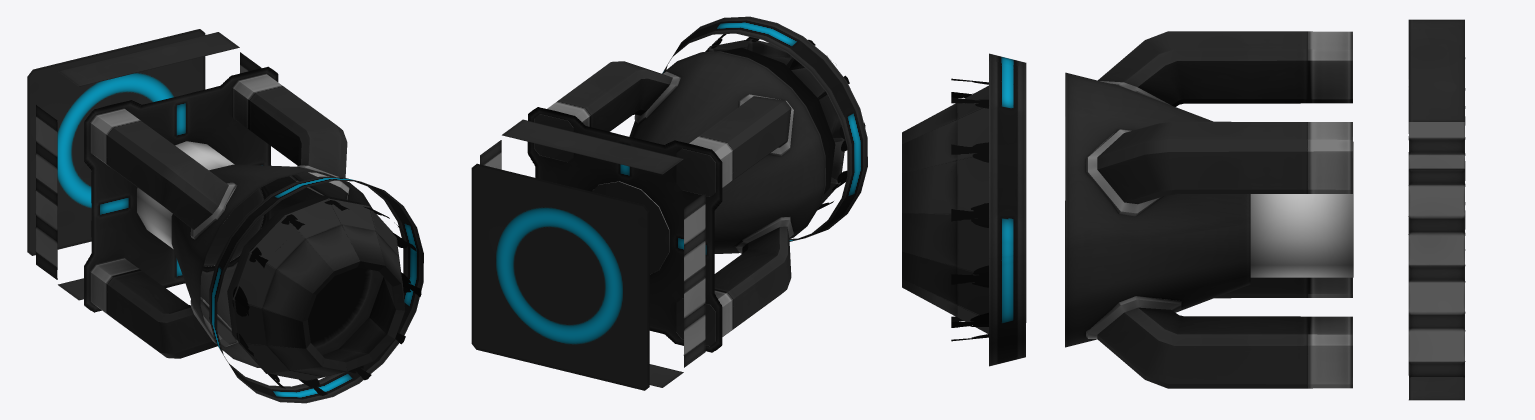
The model's file is obj_interactive_thruster_04_pose0.fbx.
The picture shows the model from 3 angles, left to right: view 1: azimuth 30°, elevation 25°; view 2: azimuth 150°, elevation 25°; view 3: azimuth 270°, elevation 25°; orthographic projection. The views are drawn at different scales.
Parts seen in each view (by area): view 1: obj_interactive_thruster_04_pose0; view 2: obj_interactive_thruster_04_pose0; view 3: obj_interactive_thruster_04_pose0.
Boxes of the visible parts, bbox=[...] form: obj_interactive_thruster_04_pose0: bbox=[27, 29, 423, 403]; obj_interactive_thruster_04_pose0: bbox=[471, 16, 867, 390]; obj_interactive_thruster_04_pose0: bbox=[902, 19, 1465, 400].
Size of the model in its own units: 2.03 by 2.03 by 4.03.
